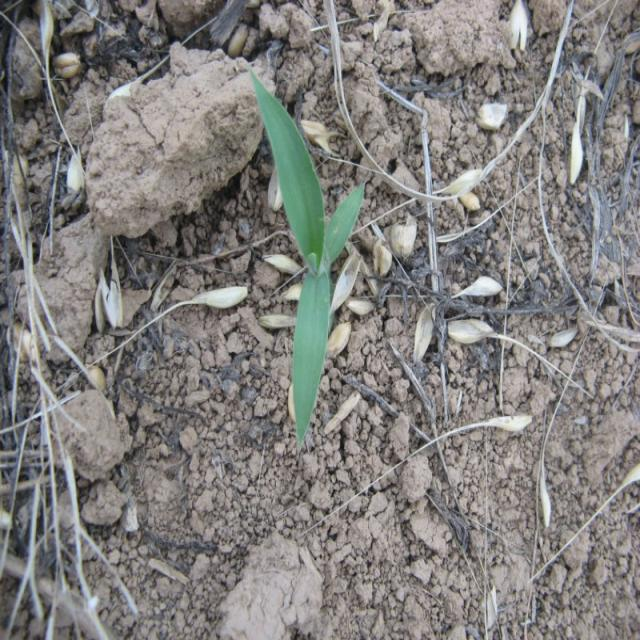bg: (242, 63, 370, 448)
